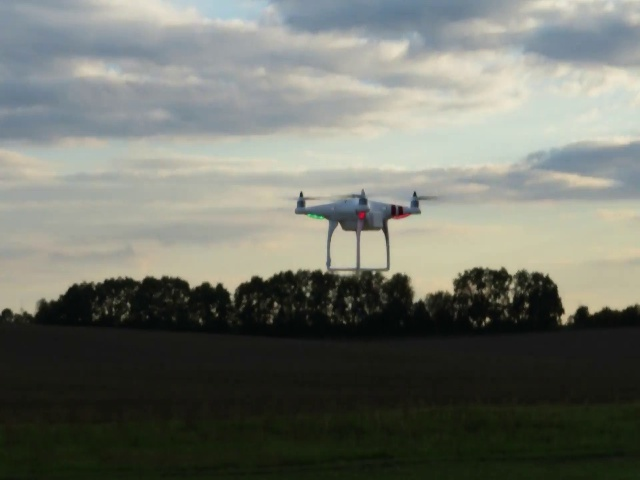drone: (275, 189, 440, 284)
